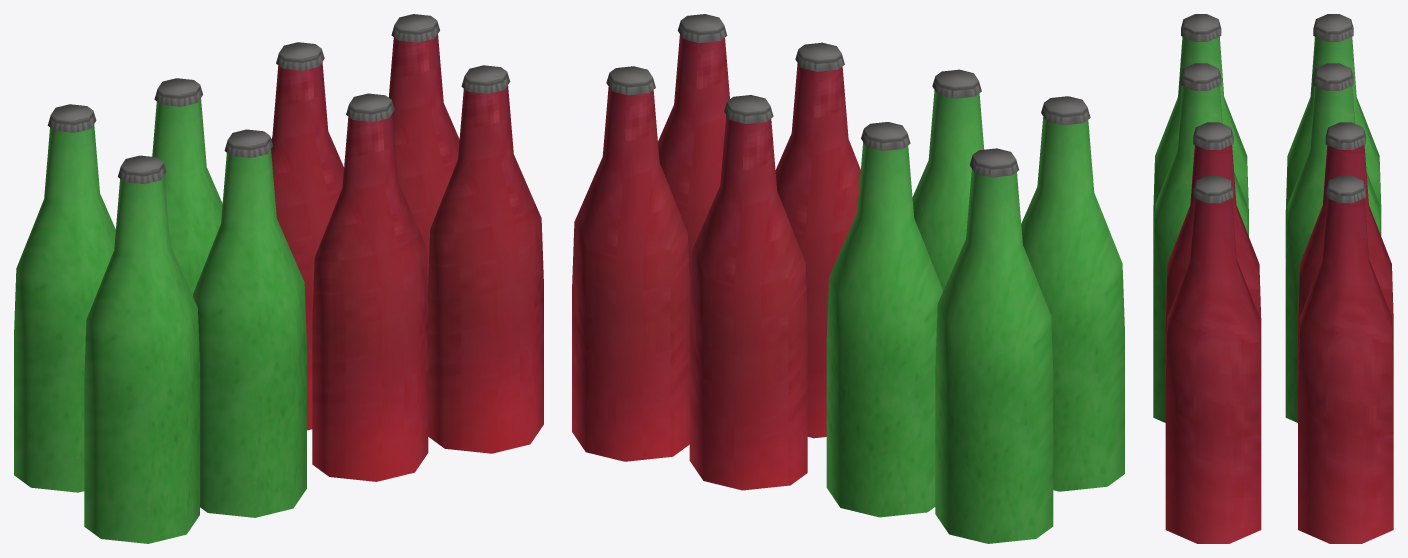
The model's file is drink01_set2.fbx.
The picture shows the model from 3 angles, left to right: view 1: azimuth 30°, elevation 25°; view 2: azimuth 150°, elevation 25°; view 3: azimuth 270°, elevation 25°; orthographic projection. The views are drawn at different scales.
Parts seen in each view (by area): view 1: drink01_set2; view 2: drink01_set2; view 3: drink01_set2.
Boxes of the visible parts, box(x1,y1,x2,y2) form: drink01_set2: box(14, 14, 543, 543); drink01_set2: box(572, 14, 1124, 543); drink01_set2: box(1153, 14, 1393, 543).
Size of the model in its own units: 34.25 by 25.98 by 16.8.
